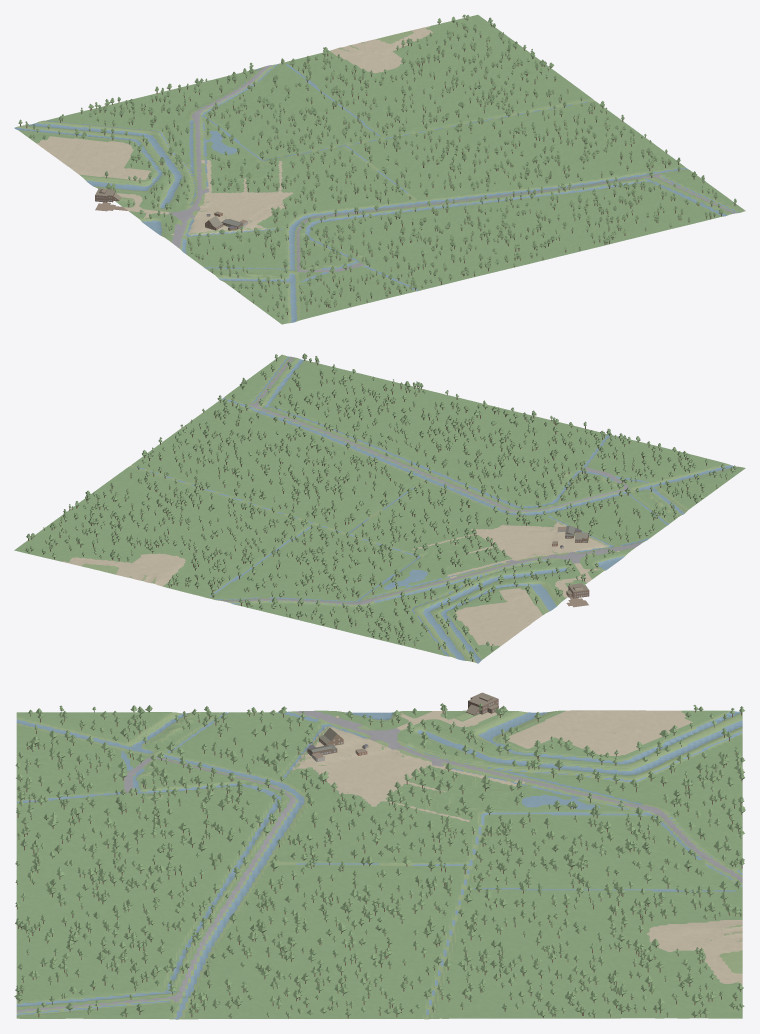
Rendered from bosven-veghel_x330_y810.glb.
3 renders of one model, top to bottom at view 1: azimuth 30°, elevation 25°; view 2: azimuth 150°, elevation 25°; view 3: azimuth 270°, elevation 25°, orthographic. The views are drawn at different scales.
Parts seen in each view (by area): view 1: class:green, class:tree, class:grass, class:sand, class:water, class:trunk, class:road, class:wall; view 2: class:green, class:tree, class:grass, class:sand, class:water, class:trunk, class:road; view 3: class:green, class:tree, class:grass, class:sand, class:water, class:trunk, class:road, class:roof, class:wall.
Boxes of the visible parts, box(x1,y1,x2,y2) form: class:green: box(16, 14, 745, 324); class:tree: box(18, 14, 736, 317); class:grass: box(17, 28, 744, 323); class:sand: box(37, 26, 432, 235); class:water: box(14, 64, 739, 322); class:trunk: box(20, 17, 735, 319); class:road: box(168, 65, 736, 272); class:wall: box(95, 190, 247, 230); class:green: box(14, 354, 745, 662); class:tree: box(25, 353, 736, 659); class:grass: box(68, 355, 737, 662); class:sand: box(62, 521, 619, 646); class:water: box(136, 356, 736, 663); class:trunk: box(28, 359, 735, 661); class:road: box(220, 356, 642, 604); class:green: box(16, 710, 742, 1019); class:tree: box(14, 703, 745, 1017); class:grass: box(16, 710, 742, 1019); class:sand: box(292, 710, 742, 985); class:water: box(16, 711, 742, 1019); class:trunk: box(17, 710, 742, 1018); class:road: box(16, 710, 742, 1012); class:roof: box(307, 692, 498, 758); class:wall: box(307, 697, 498, 761).
Size of the model in its own units: 519 by 18.05 by 504.
